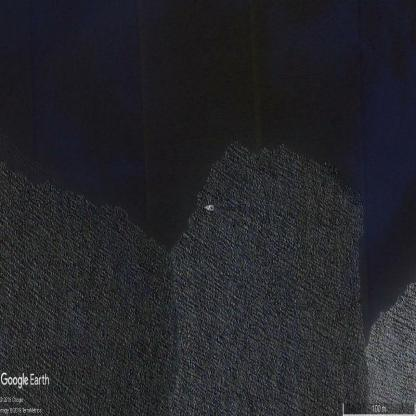ship: (205, 205, 214, 211)
